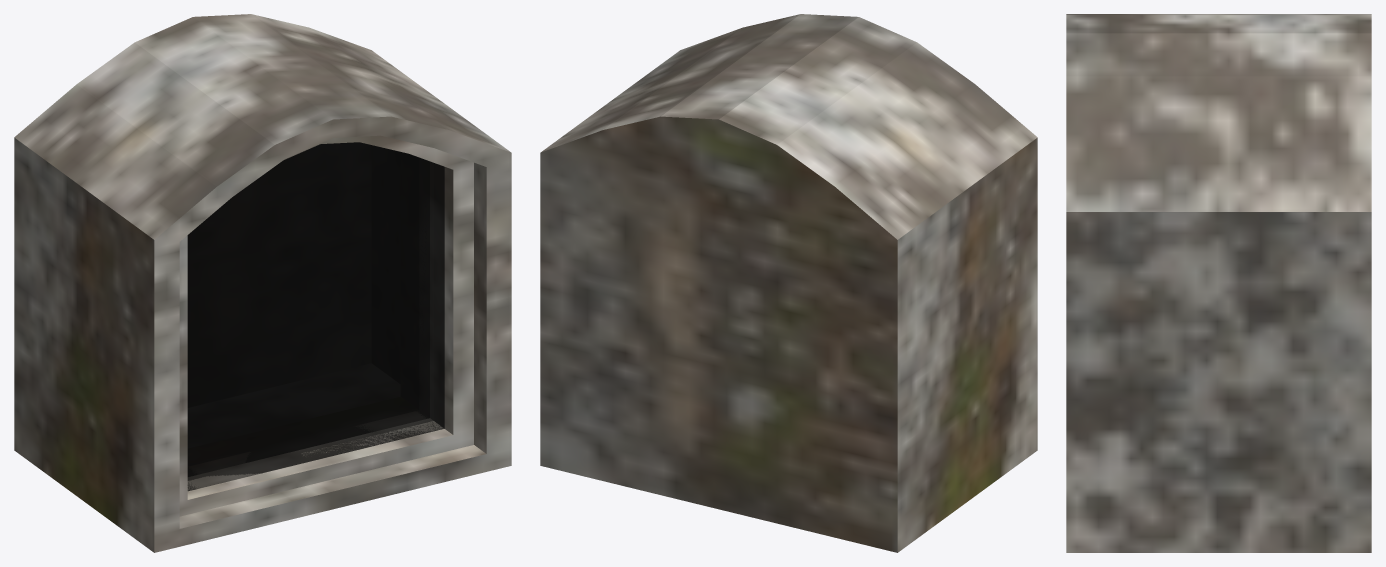
Rendered from Terowongan.fbx.
The picture shows the model from 3 angles, left to right: view 1: azimuth 30°, elevation 25°; view 2: azimuth 150°, elevation 25°; view 3: azimuth 270°, elevation 25°; orthographic projection. The views are drawn at different scales.
Parts seen in each view (by area): view 1: Terowongan; view 2: Terowongan; view 3: Terowongan.
Part boxes in pixels (box(x1,y1,x2,y2)): Terowongan: box(14, 14, 511, 552); Terowongan: box(540, 14, 1037, 552); Terowongan: box(1066, 14, 1371, 552).
Size of the model in its own units: 736 by 767 by 500.
Materials: 2 (1 with a texture image).
